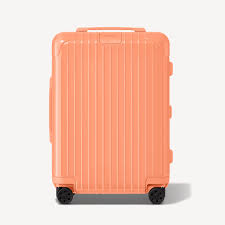suitcase: (47, 25, 177, 206)
